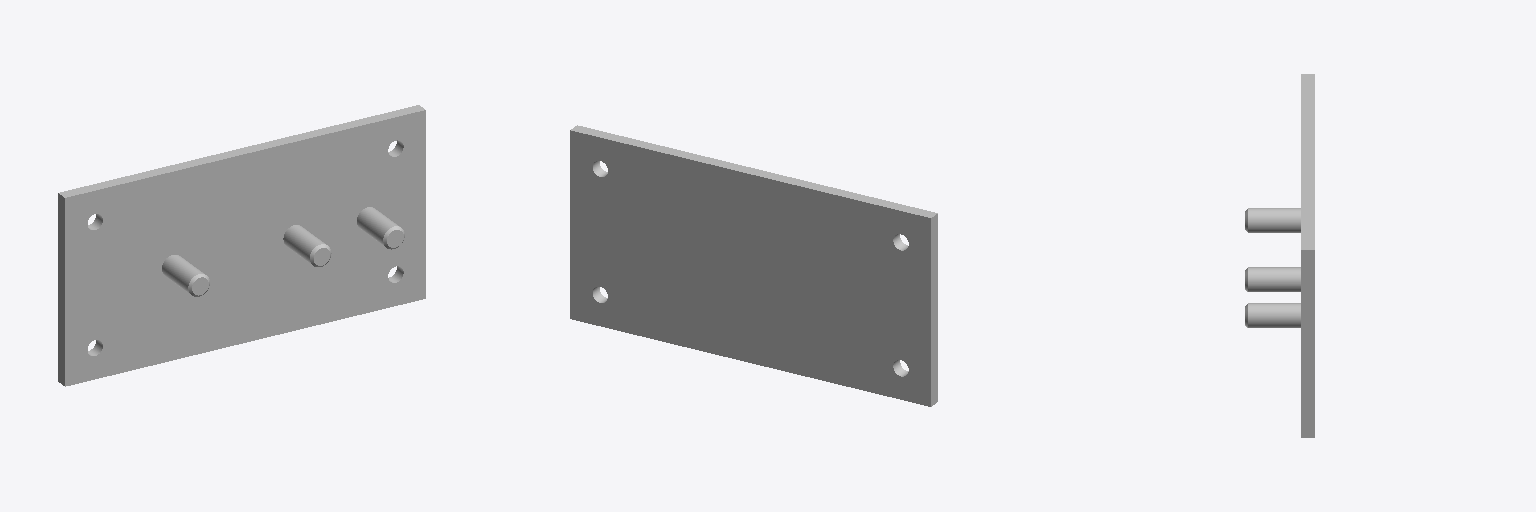
Rendered from industreal_gear_base.obj.
3 renders of one model, left to right at view 1: azimuth 30°, elevation 25°; view 2: azimuth 150°, elevation 25°; view 3: azimuth 270°, elevation 25°, orthographic.
Parts seen in each view (by area): view 1: mesh3, mesh6, mesh7, mesh14, mesh13, mesh2; view 2: mesh5, mesh6, mesh7; view 3: mesh4, mesh6, mesh2, mesh13, mesh14.
Part boxes in pixels (x1,y1,x2,y2): mesh3: (65, 110, 425, 386); mesh6: (59, 105, 424, 197); mesh7: (58, 193, 64, 385); mesh14: (357, 207, 399, 245); mesh13: (283, 225, 324, 264); mesh2: (162, 255, 203, 294); mesh5: (570, 130, 930, 406); mesh6: (571, 125, 937, 217); mesh7: (931, 214, 937, 406); mesh4: (1301, 250, 1314, 437); mesh6: (1301, 74, 1314, 249); mesh2: (1248, 208, 1300, 232); mesh13: (1248, 267, 1300, 291); mesh14: (1248, 303, 1300, 327).
Bounding box in the file's own units: 0.15 × 0.075 × 0.025.